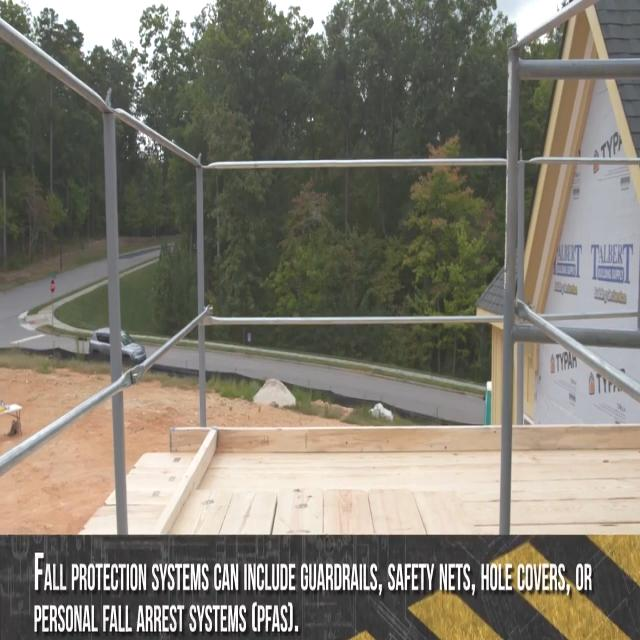vehicle: (88, 327, 146, 362)
